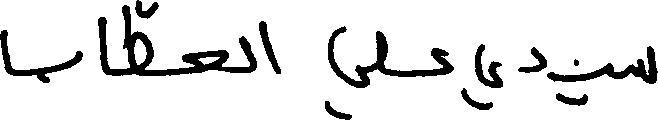X: (0, 25, 82, 87), (331, 21, 369, 119), (121, 0, 153, 80), (477, 39, 502, 114), (184, 45, 226, 78), (259, 16, 281, 78), (629, 41, 657, 88), (520, 42, 545, 77), (238, 31, 255, 77), (97, 12, 107, 79), (375, 26, 386, 79), (441, 44, 453, 79), (603, 58, 615, 83)
